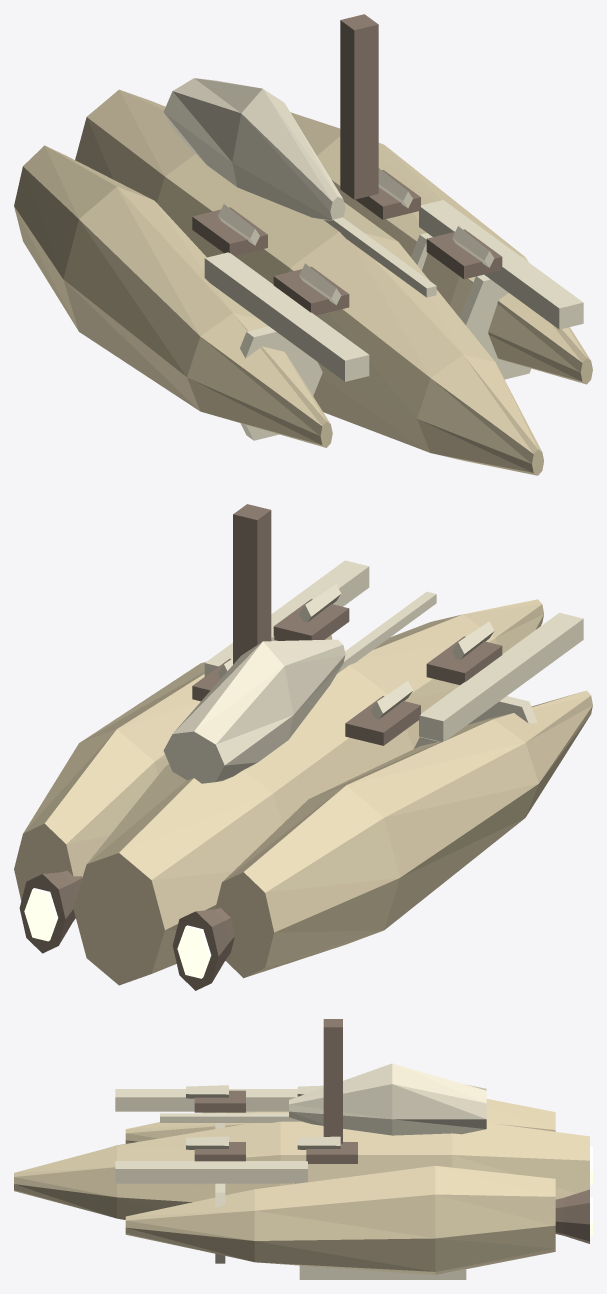
3 views of the same model, one above another, from view 1: azimuth 30°, elevation 25°; view 2: azimuth 150°, elevation 25°; view 3: azimuth 270°, elevation 25° (orthographic). The views are drawn at different scales.
Size of the model in its own units: 6.96 by 6.61 by 14.41.
